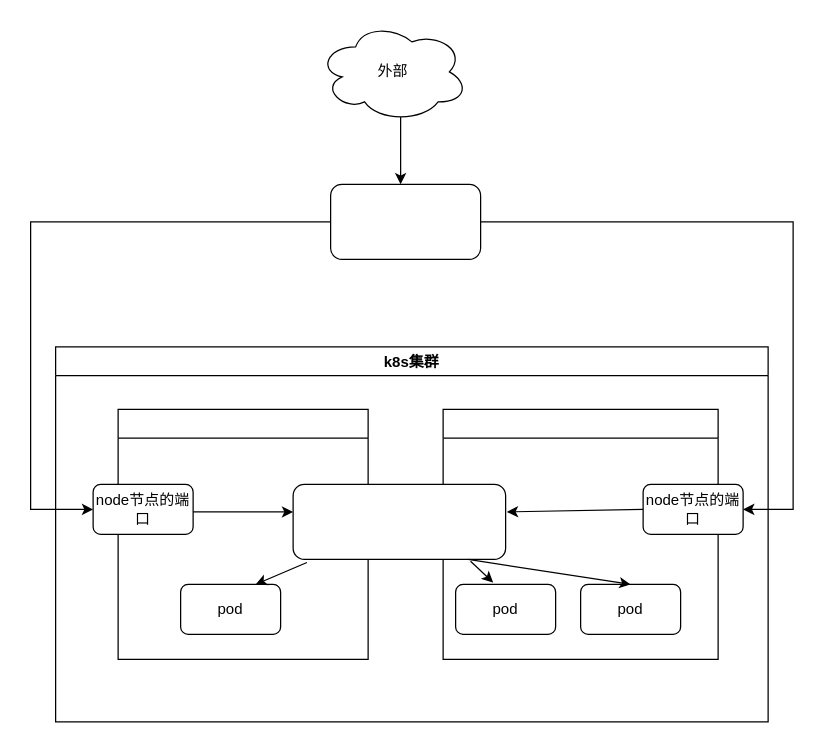
This 825x744 diagram has some shape labels left out. Each missing label, with the box of its shape:
LoadBalancer负载均衡: (329, 183, 481, 259)
node节点1: (117, 408, 368, 659)
node节点2: (442, 408, 718, 659)
service NodePort: (292, 483, 506, 559)
